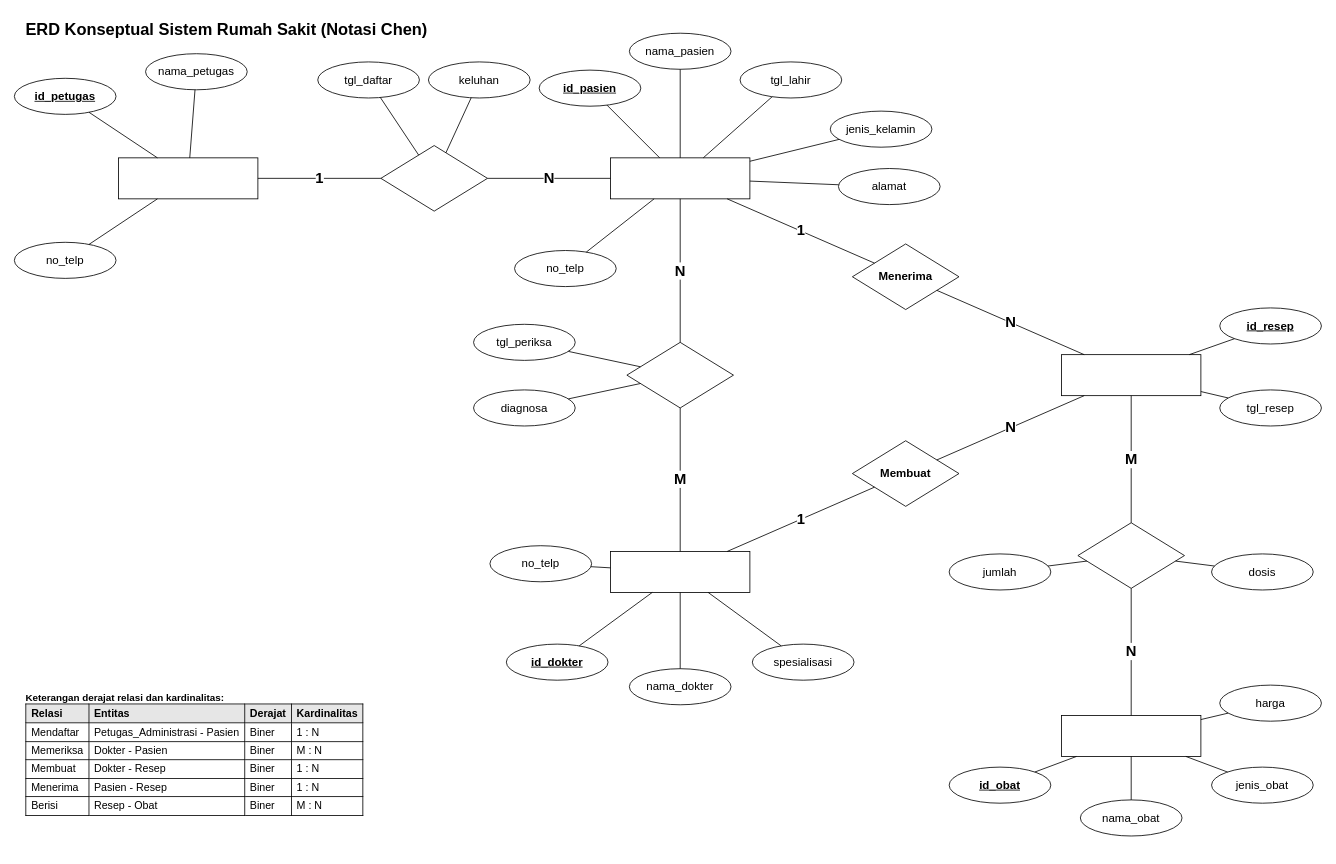
The diagram is 1336 pixels wide and 864 high, and some of its shapes have lost their labels. The centre of each missing label's shape, as x and y in pixels:
"Berisi" goes at point (1130, 555).
"Dokter" goes at point (680, 571).
"Memeriksa" goes at point (679, 375).
"Mendaftar" goes at point (433, 178).
"Obat" goes at point (1131, 735).
"Pasien" goes at point (680, 178).
"Petugas_Administrasi" goes at point (188, 178).
"Resep" goes at point (1131, 375).
